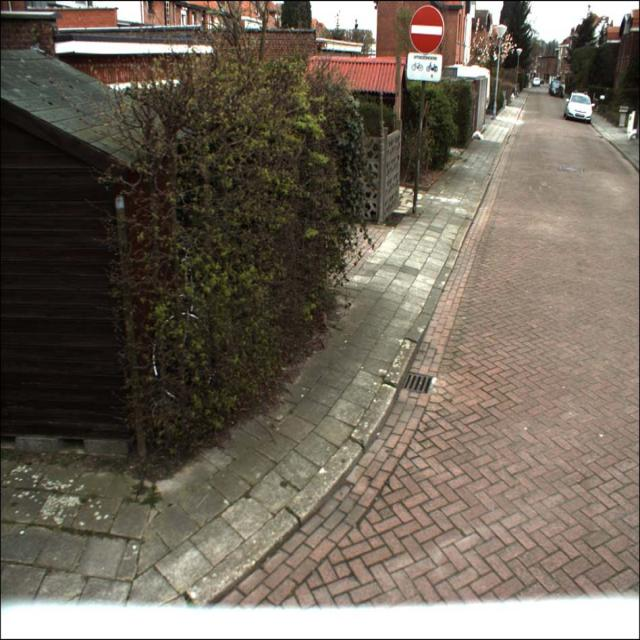girisyok: (410, 6, 444, 54)
